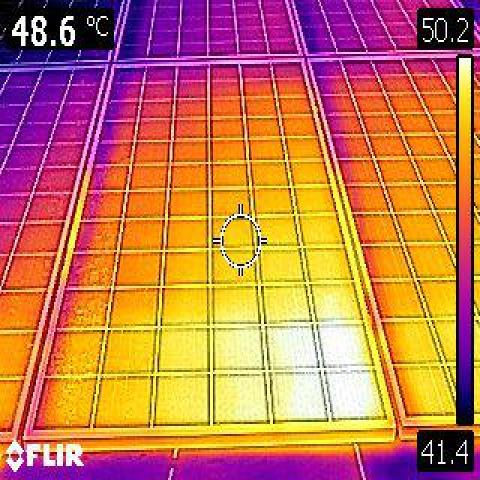fault: (272, 318, 368, 414)
